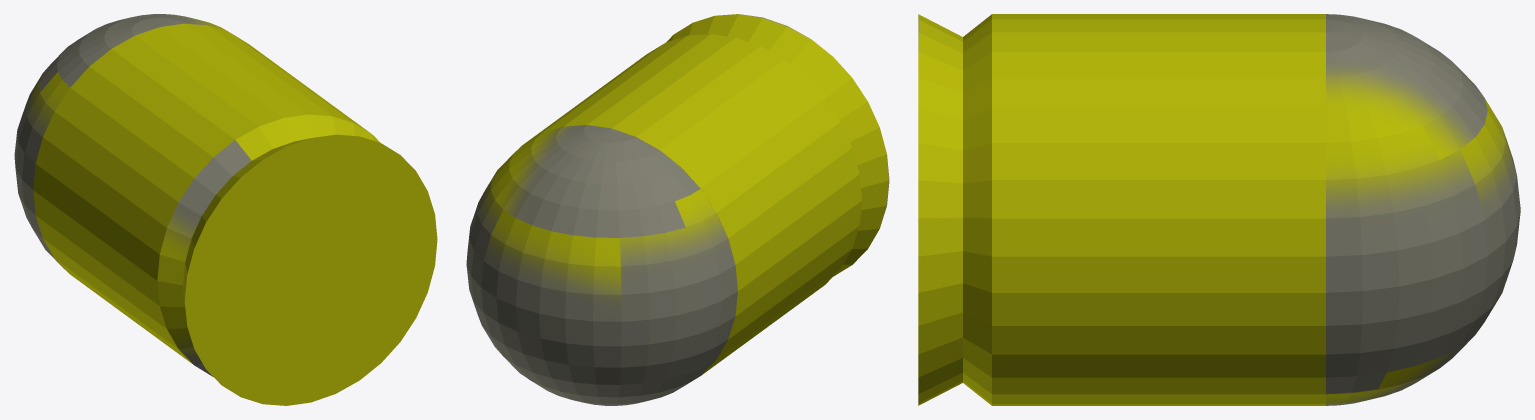
The model's file is Bullet.obj.
3 views of the same model, side by side, from view 1: azimuth 30°, elevation 25°; view 2: azimuth 150°, elevation 25°; view 3: azimuth 270°, elevation 25° (orthographic). The views are drawn at different scales.
Parts seen in each view (by area): view 1: 薬莢, 弾頭; view 2: 弾頭, 薬莢; view 3: 薬莢, 弾頭.
Boxes of the visible parts, left/top/right/bottom form: 薬莢: left=33, top=23, right=437, bottom=405; 弾頭: left=14, top=14, right=228, bottom=272; 弾頭: left=466, top=125, right=737, bottom=405; 薬莢: left=523, top=14, right=889, bottom=375; 薬莢: left=918, top=14, right=1325, bottom=405; 弾頭: left=1326, top=14, right=1520, bottom=405.
Size of the model in its own units: 2 by 2 by 3.07.
Materials: 2 (2 with a texture image).
